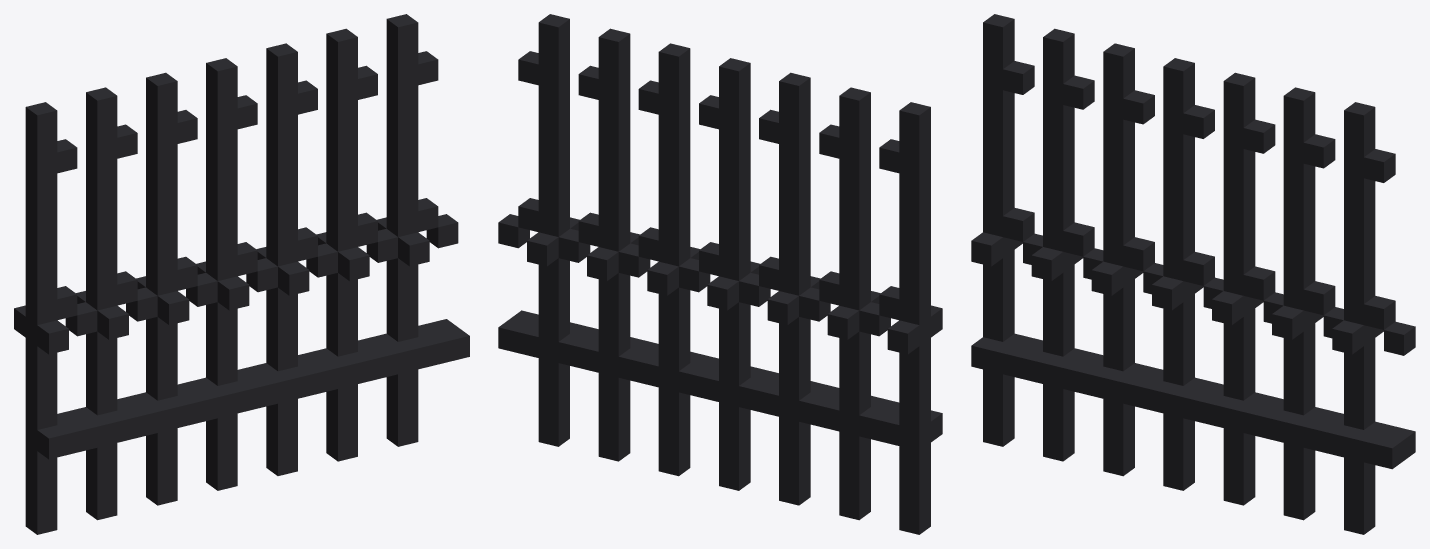
The model's file is SM-7-Fence.glb.
3 views of the same model, side by side, from view 1: azimuth 30°, elevation 25°; view 2: azimuth 150°, elevation 25°; view 3: azimuth 330°, elevation 25° (orthographic).
Parts seen in each view (by area): view 1: SM-7-Fence; view 2: SM-7-Fence; view 3: SM-7-Fence.
Boxes of the visible parts, bbox=[...] form: SM-7-Fence: bbox=[14, 14, 469, 534]; SM-7-Fence: bbox=[498, 14, 942, 534]; SM-7-Fence: bbox=[971, 14, 1415, 534].
Size of the model in its own units: 2.1 by 2 by 0.2999.
Materials: 1 (1 with a texture image).
